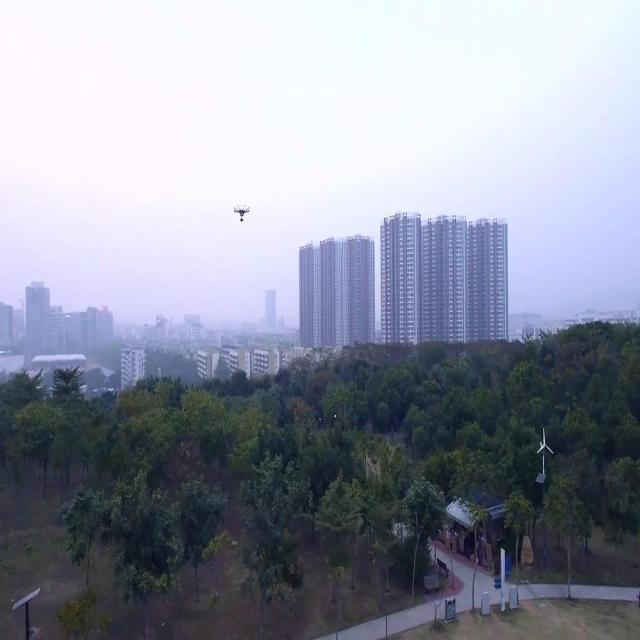drone: (232, 202, 251, 226)
